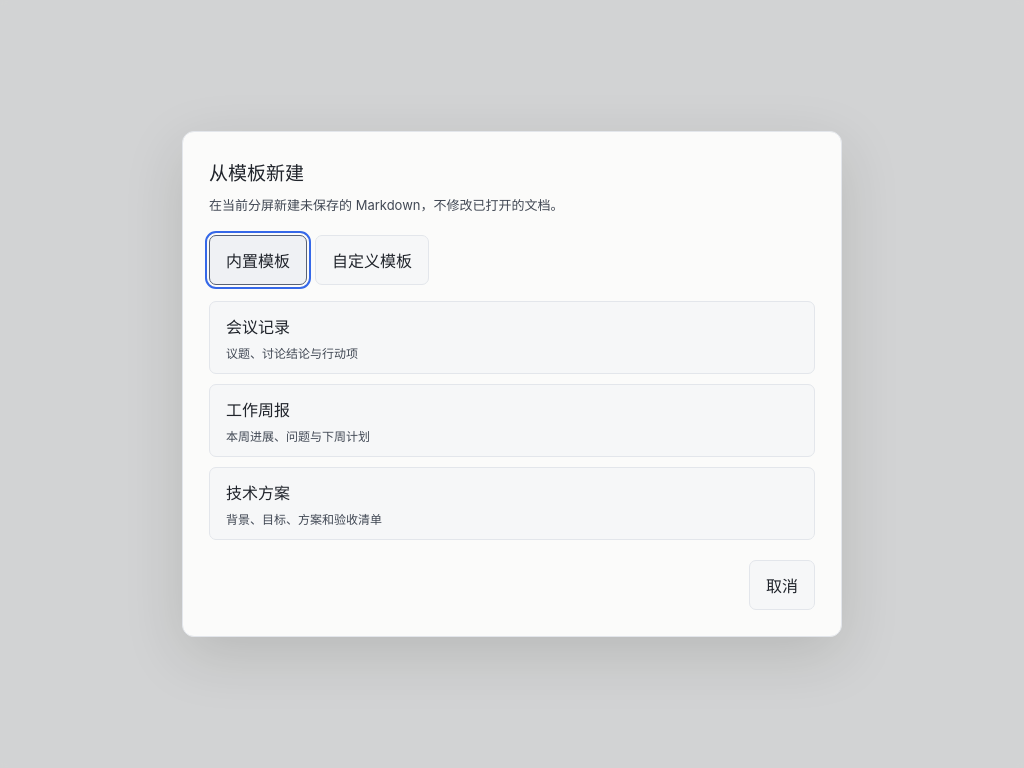
template library dialog › recovers from a directory error and displays localized errors
Step 1. Click the tab "自定义模板" → (372, 260), box [315,235,429,285]
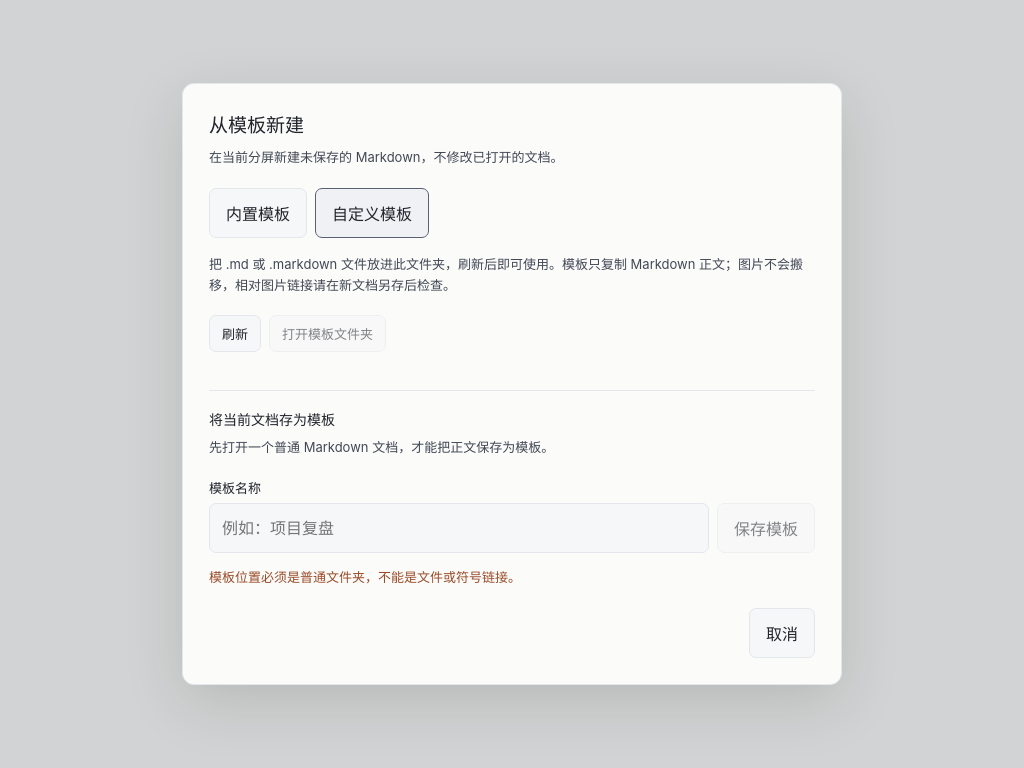
Check: the message shows "不能是文件或符号链接", box [209,569,521,585]
Step 2. Click the button "刷新" → (235, 334), box [209,315,261,352]
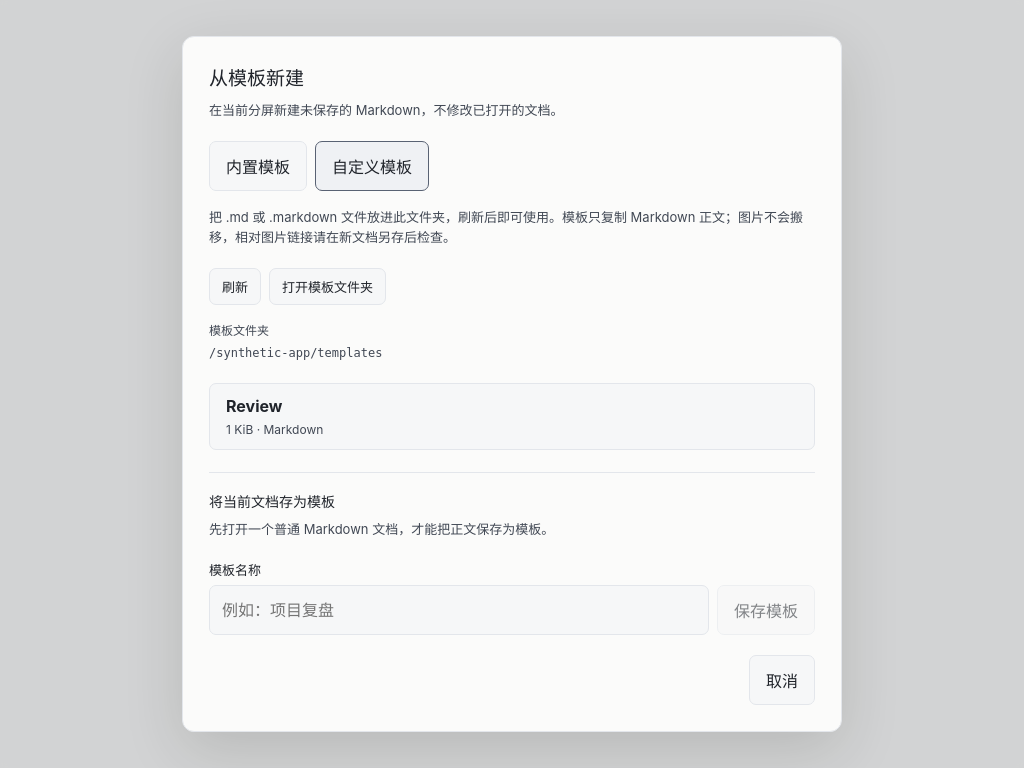
Check: the button "Review 1 KiB · Markdown" is shown, box [209,384,815,450]
Check: the message "模板位置必须是普通文件夹，不能是文件或符号链接。" is gone
